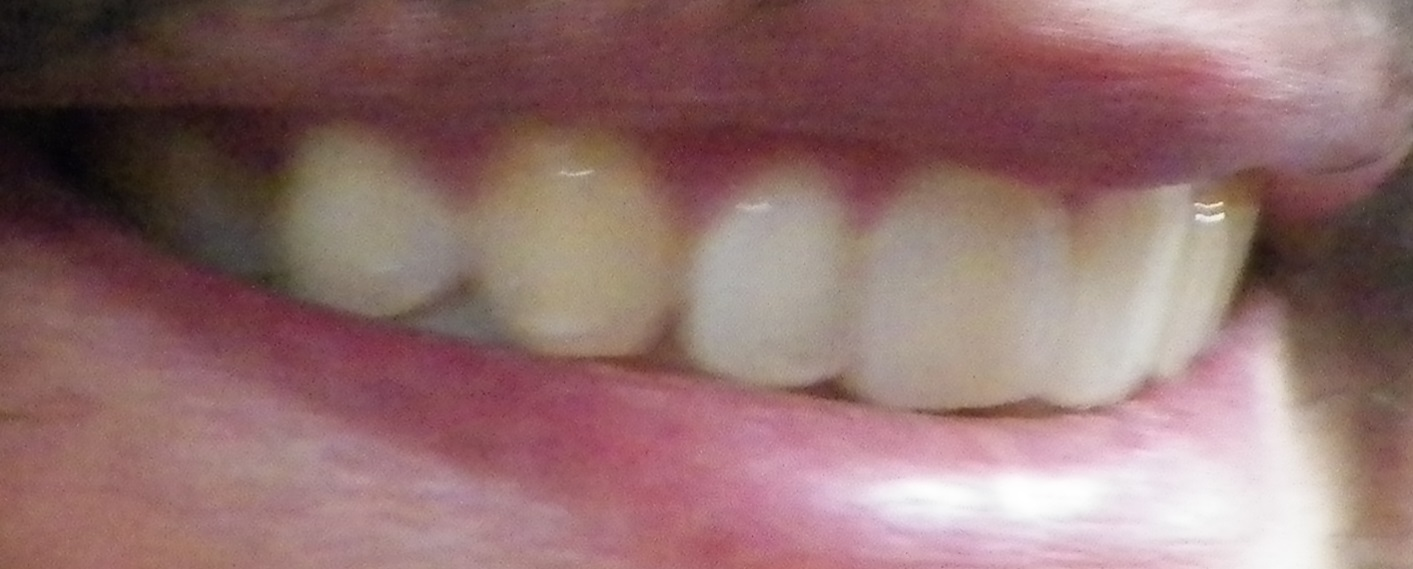boca: (128, 144, 1280, 386)
